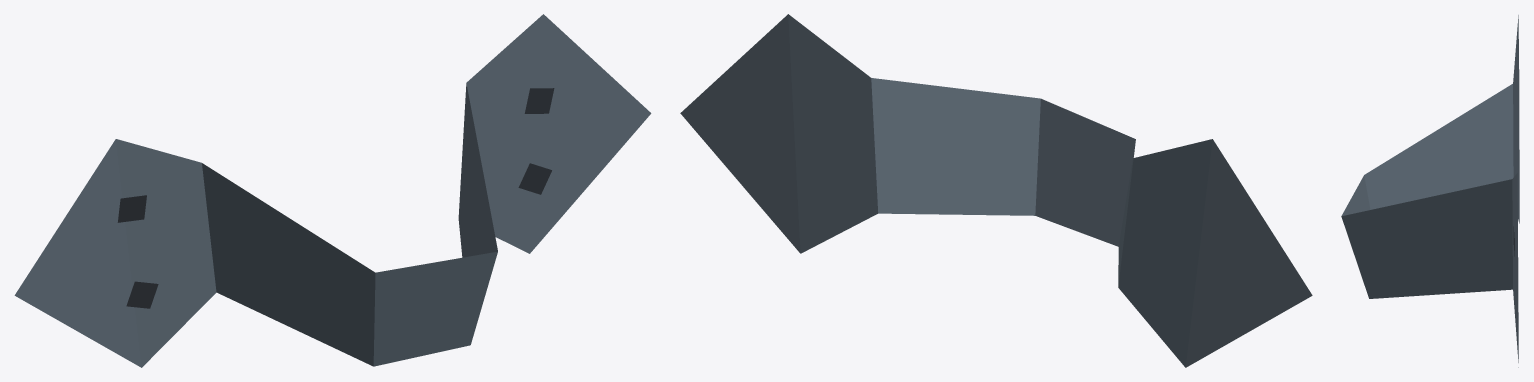
Rendered from Shackless_02.fbx.
The picture shows the model from 3 angles, left to right: view 1: azimuth 30°, elevation 25°; view 2: azimuth 150°, elevation 25°; view 3: azimuth 270°, elevation 25°; orthographic projection. The views are drawn at different scales.
Visible parts, largest first — view 1: Shackless_02; view 2: Shackless_02; view 3: Shackless_02.
Boxes of the visible parts, left/top/right/bottom form: Shackless_02: left=14, top=14, right=651, bottom=367; Shackless_02: left=680, top=14, right=1312, bottom=367; Shackless_02: left=1341, top=15, right=1519, bottom=367.
Size of the model in its own units: 7.16 by 2.77 by 2.06.
Materials: 1 (1 with a texture image).
